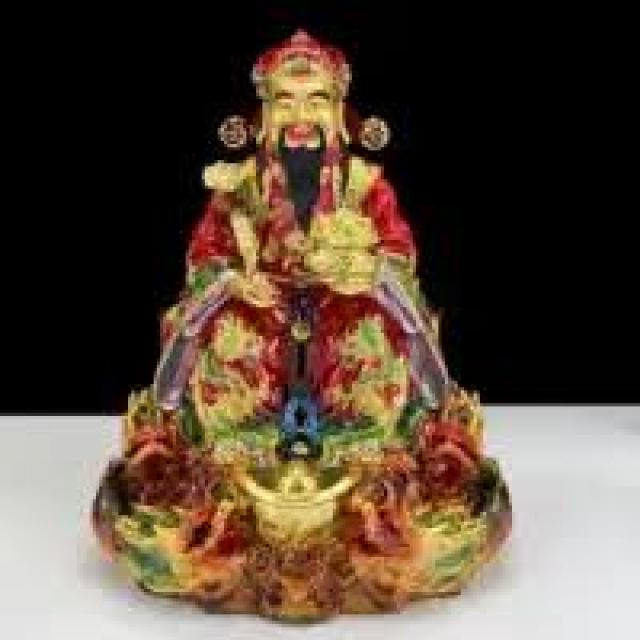Cai shen: (191, 46, 424, 470)
